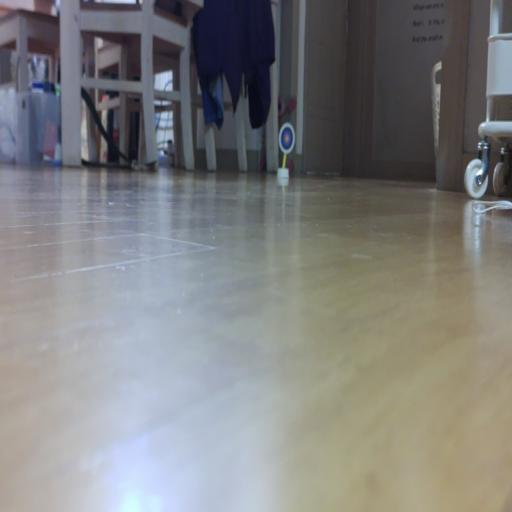target: (279, 122, 295, 155)
